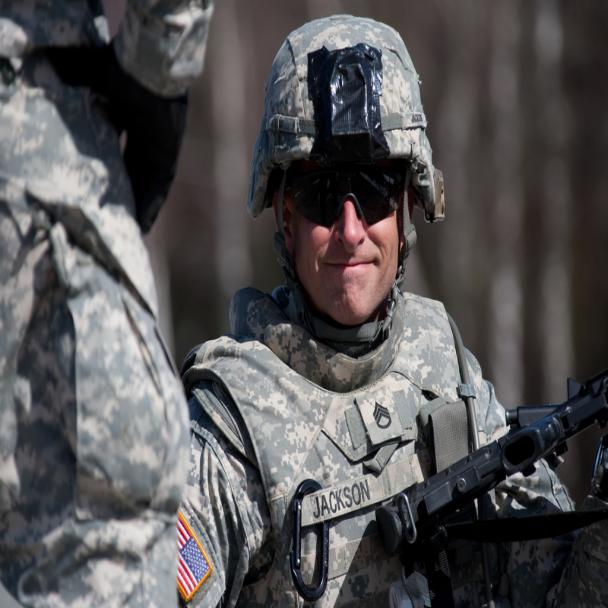Gun: (379, 362, 607, 607)
